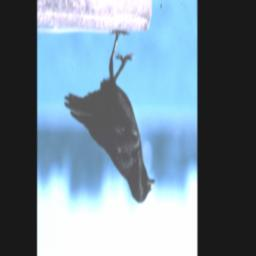Crow: (63, 27, 156, 209)
